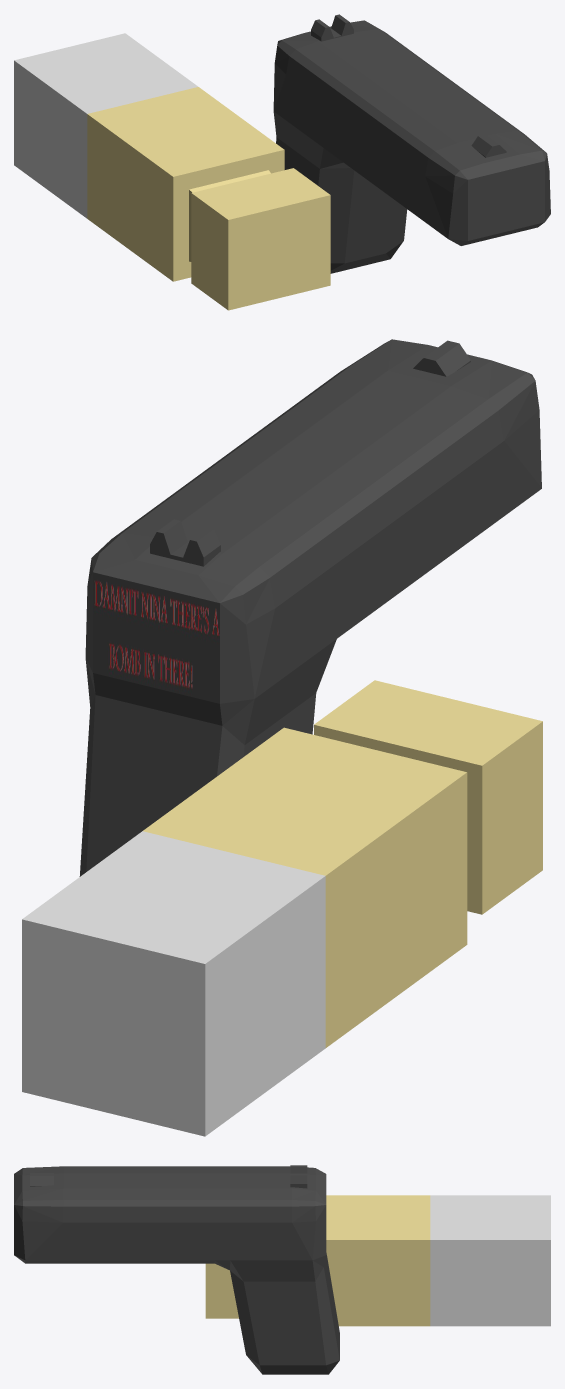
File: pistol4.obj
3 renders of one model, top to bottom at view 1: azimuth 30°, elevation 25°; view 2: azimuth 150°, elevation 25°; view 3: azimuth 270°, elevation 25°, orthographic. The views are drawn at different scales.
Visible parts, largest first — view 1: cube5, Pistol; view 2: cube5, Pistol; view 3: Pistol, cube5.
Boxes of the visible parts, x1,y1,x2,y2 form: cube5: [14, 33, 330, 310]; Pistol: [273, 14, 550, 273]; cube5: [22, 680, 542, 1136]; Pistol: [79, 339, 541, 876]; Pistol: [14, 1165, 339, 1374]; cube5: [205, 1195, 550, 1326].
Size of the model in its own units: 15.63 by 15.84 by 40.61.
Materials: 4 (4 with a texture image).
